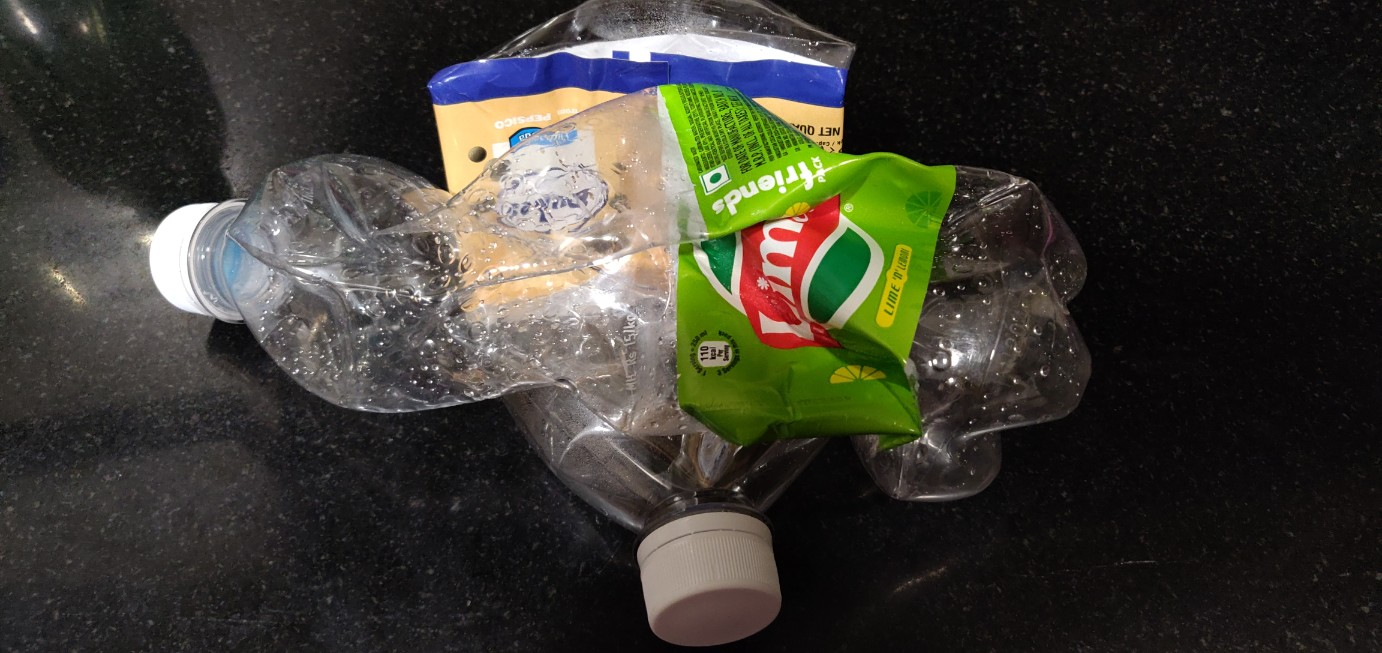Electronics: (117, 44, 1123, 534), (392, 9, 917, 653)
